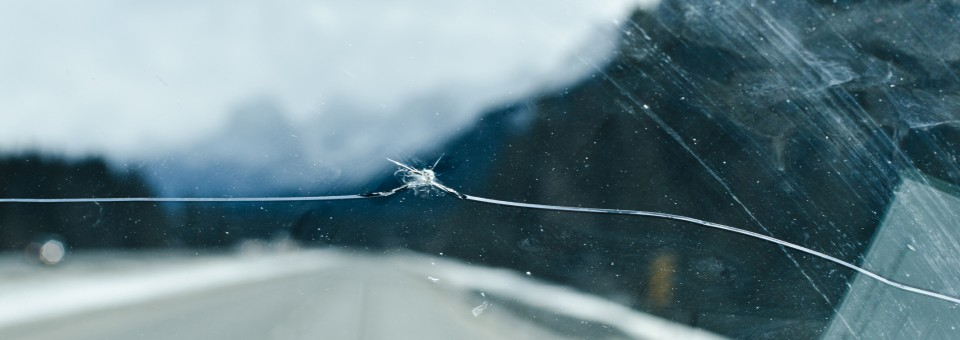bullseye: (363, 145, 471, 236)
scratch: (478, 183, 848, 267), (4, 182, 360, 221), (864, 261, 960, 311)
